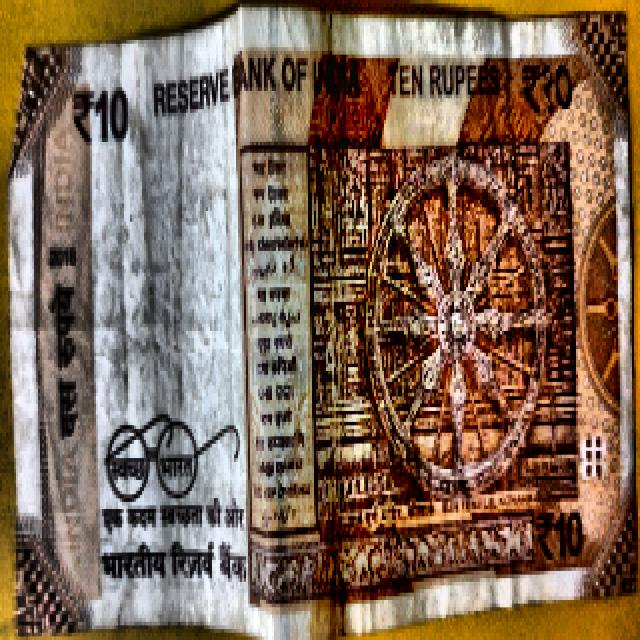-10-: (20, 11, 640, 618)
